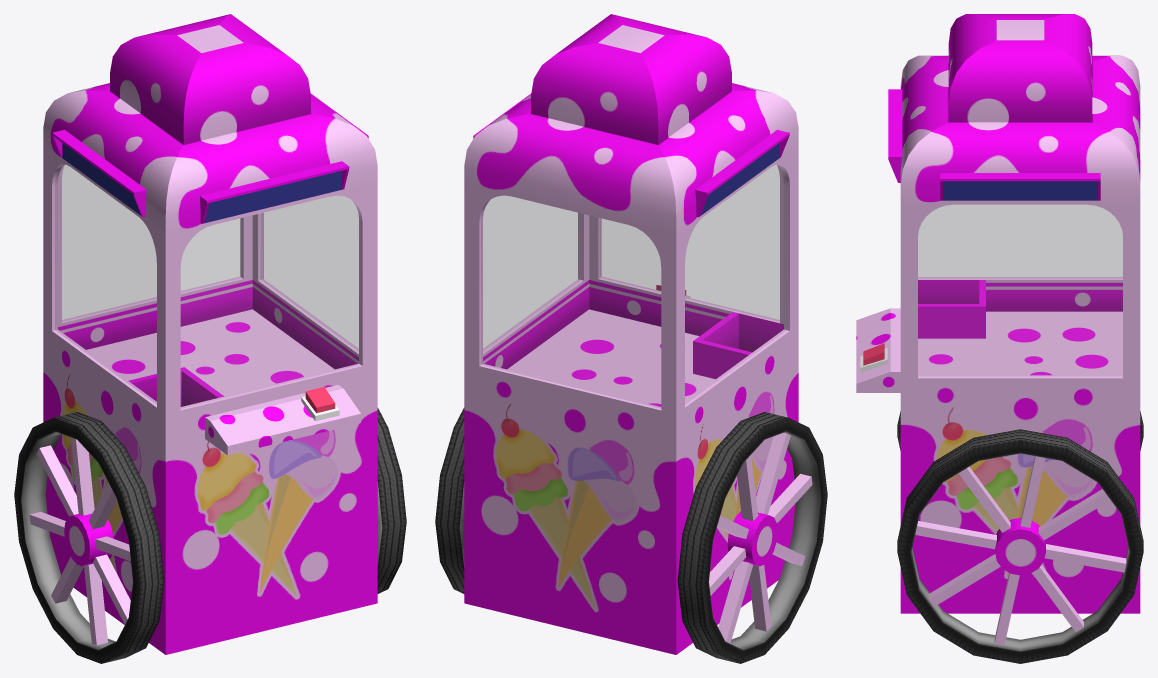
The model's file is machine_01.FBX.
3 views of the same model, side by side, from view 1: azimuth 30°, elevation 25°; view 2: azimuth 150°, elevation 25°; view 3: azimuth 270°, elevation 25° (orthographic). The views are drawn at different scales.
Parts seen in each view (by area): view 1: machine_01, machine_01_box; view 2: machine_01; view 3: machine_01, machine_01_box.
Boxes of the visible parts, x1,y1,x2,y2 form: machine_01: (14,14,406,663); machine_01_box: (205,385,360,455); machine_01: (435,14,827,663); machine_01: (888,14,1143,663); machine_01_box: (856,308,900,392).
Size of the model in its own units: 22 by 46 by 21.
